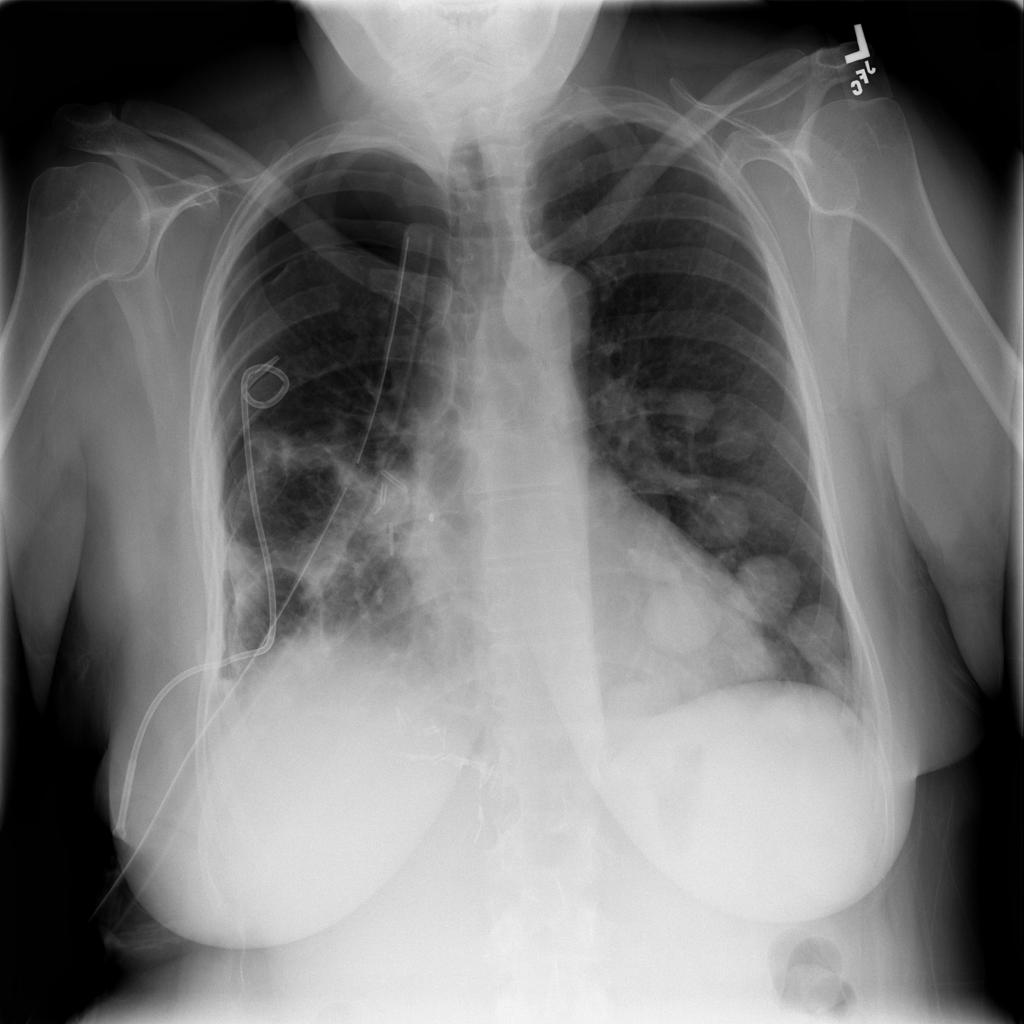nodule: (634, 583, 721, 657), (786, 596, 858, 678), (602, 669, 685, 736), (726, 551, 801, 625), (681, 486, 759, 556), (719, 626, 790, 695), (656, 371, 724, 443), (708, 403, 774, 477)
